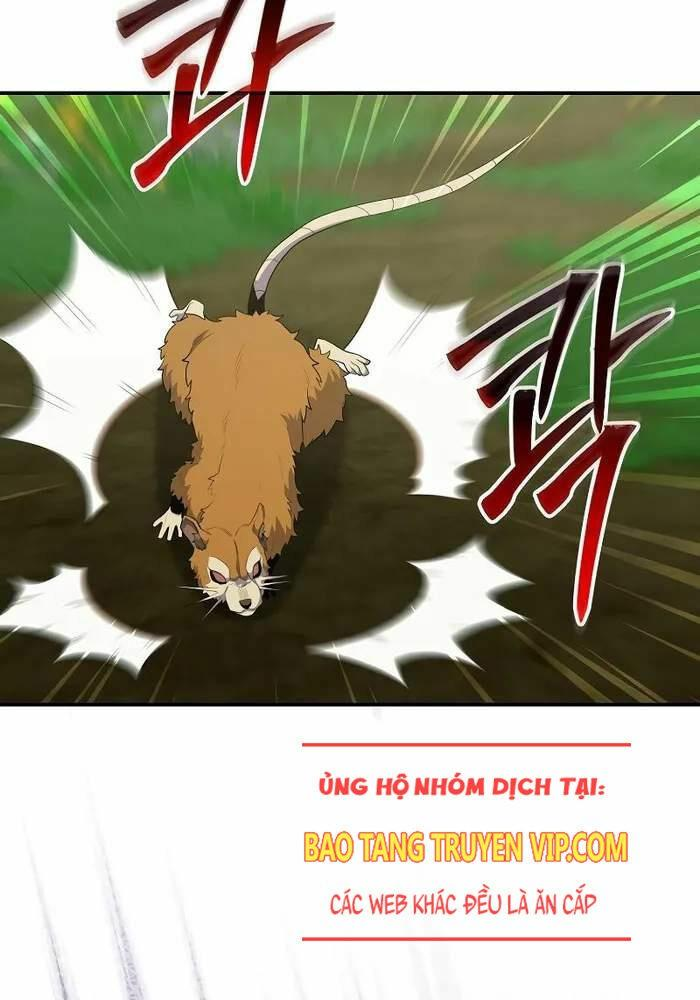quangcao: (299, 743, 636, 946)
